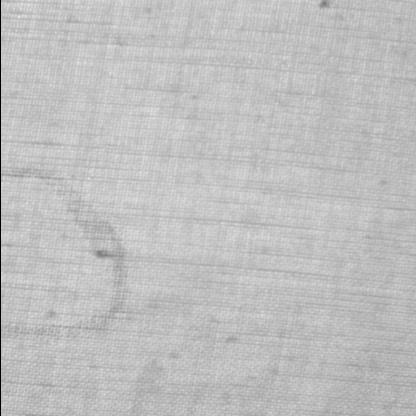oil spot: (1, 162, 130, 344)
